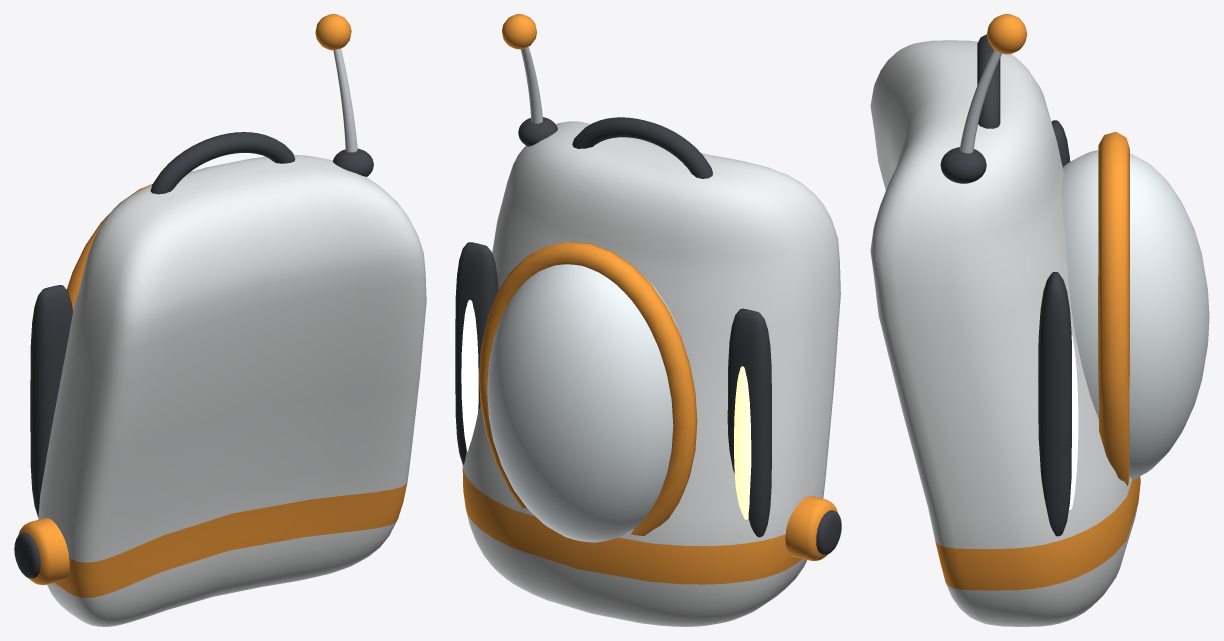
The model's file is SM_BeaverBackpack.fbx.
The picture shows the model from 3 angles, left to right: view 1: azimuth 30°, elevation 25°; view 2: azimuth 150°, elevation 25°; view 3: azimuth 270°, elevation 25°; orthographic projection. The views are drawn at different scales.
Visible parts, largest first — view 1: SM_BeaverBackpack; view 2: SM_BeaverBackpack; view 3: SM_BeaverBackpack.
Boxes of the visible parts, box(x1,y1,x2,y2) form: SM_BeaverBackpack: box(14, 14, 426, 626); SM_BeaverBackpack: box(455, 14, 841, 626); SM_BeaverBackpack: box(870, 14, 1209, 626).
Bounding box in the file's own units: 0.3256 × 0.474 × 0.2344.
